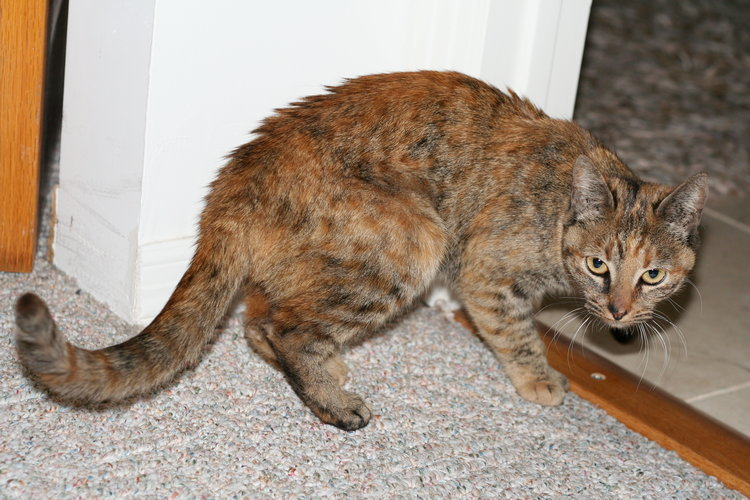cat: (15, 68, 715, 437)
